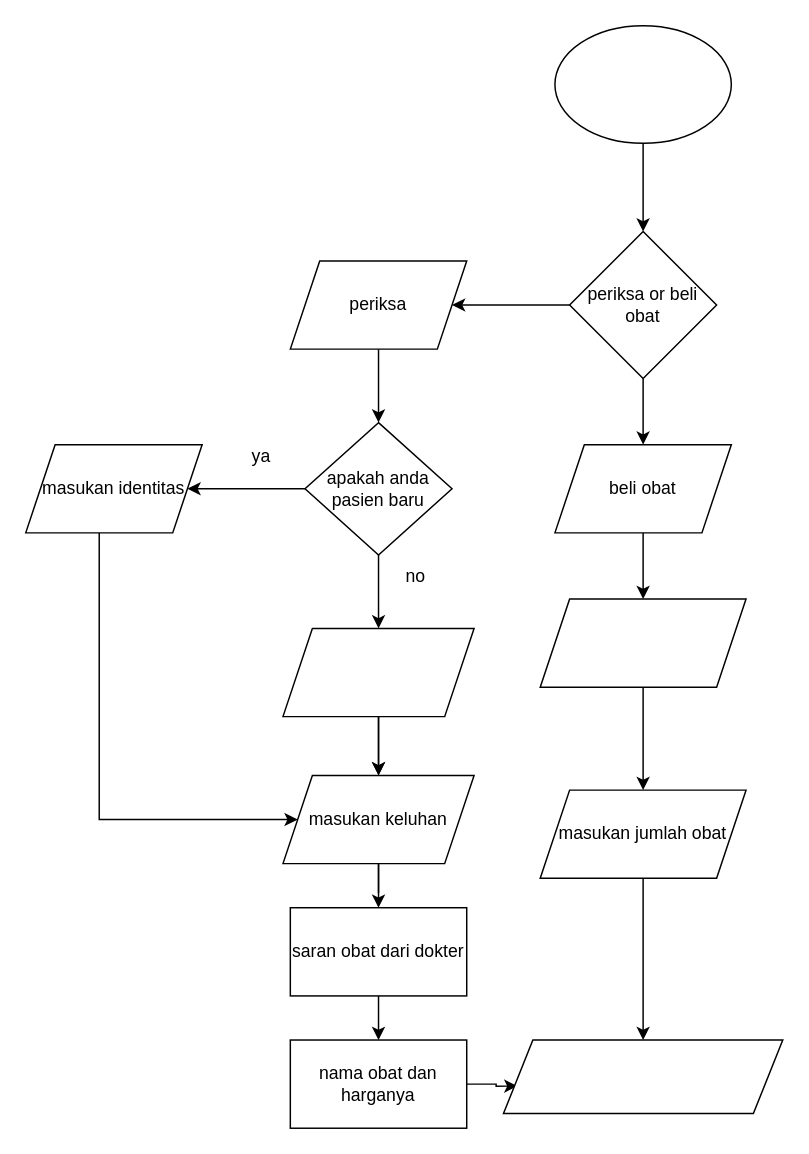
Image size: 809x1154. Some labels were removed from this diagram. Here are the shapes that lost their labels. From the top down, the centre of each, then its label:
(642,83): start
(642,642): masukan nama obat
(378,672): masukan id pasien
(642,1076): total harga obat yang di beli
